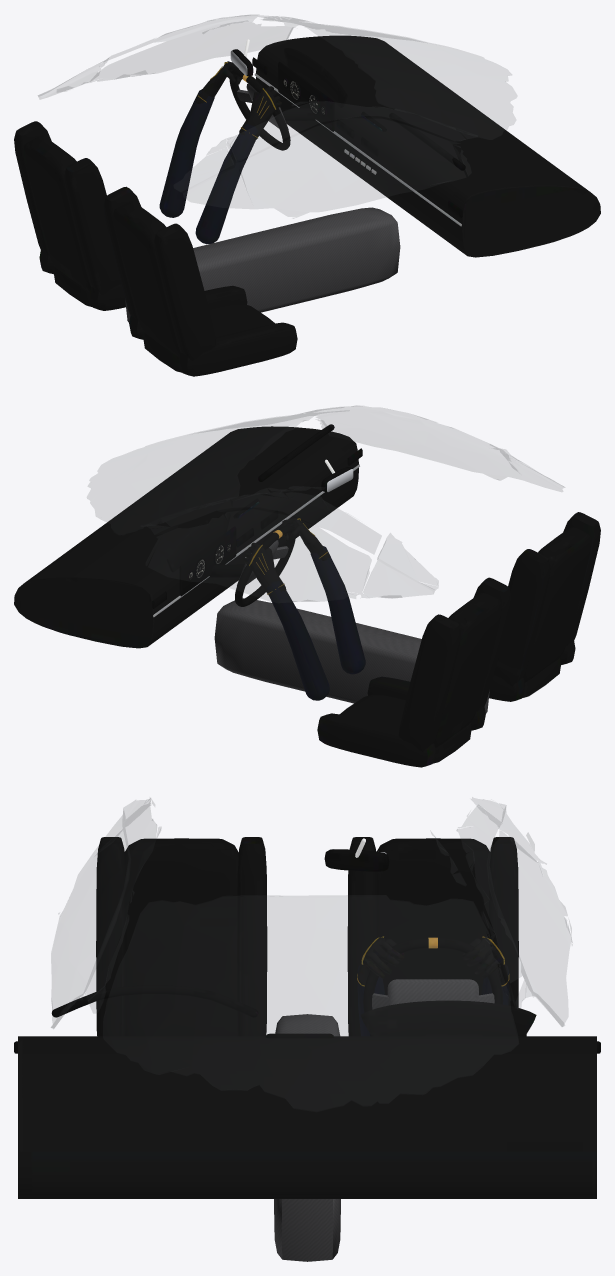
The model's file is rpx_hyperion_cockpit_low.glb.
3 renders of one model, top to bottom at view 1: azimuth 30°, elevation 25°; view 2: azimuth 150°, elevation 25°; view 3: azimuth 270°, elevation 25°, orthographic. The views are drawn at different scales.
Parts seen in each view (by area): view 1: cockpit_shell, window_R, cabin_glass, hands, window_L, steering_wheel; view 2: cockpit_shell, window_L, cabin_glass, window_R, hands, steering_wheel; view 3: cockpit_shell, cabin_glass, window_L, window_R, steering_wheel, hands.
Boxes of the visible parts, left/top/right/bottom form: cockpit_shell: left=14, top=35, right=600, bottom=376; window_R: left=174, top=101, right=470, bottom=216; cabin_glass: left=38, top=15, right=516, bottom=218; hands: left=159, top=61, right=281, bottom=244; window_L: left=39, top=15, right=309, bottom=98; steering_wheel: left=229, top=68, right=290, bottom=150; cockpit_shell: left=14, top=424, right=600, bottom=767; window_L: left=148, top=487, right=437, bottom=602; cabin_glass: left=87, top=407, right=518, bottom=597; window_R: left=304, top=406, right=564, bottom=491; hands: left=243, top=517, right=365, bottom=700; steering_wheel: left=235, top=525, right=295, bottom=606; cockpit_shell: left=14, top=837, right=600, bottom=1261; cabin_glass: left=57, top=799, right=572, bottom=1111; window_L: left=431, top=797, right=571, bottom=1022; window_R: left=51, top=798, right=160, bottom=1028; steering_wheel: left=363, top=937, right=503, bottom=1012; hands: left=357, top=936, right=509, bottom=1036.
Bounding box in the file's own units: 1.81 × 1.01 × 1.54.
Materials: 5 (3 with a texture image).
